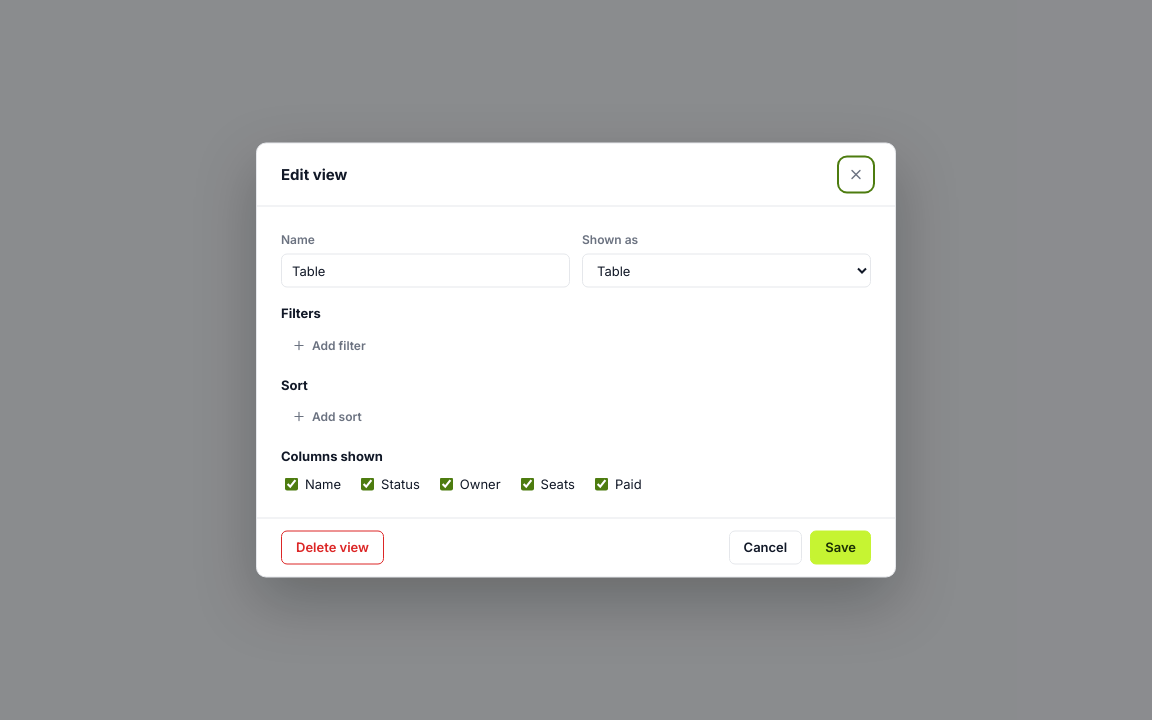
Scenario: ViewSettings › shows what the server refused
Click the button "Save" at point(841, 548), box [810,530,871,564]
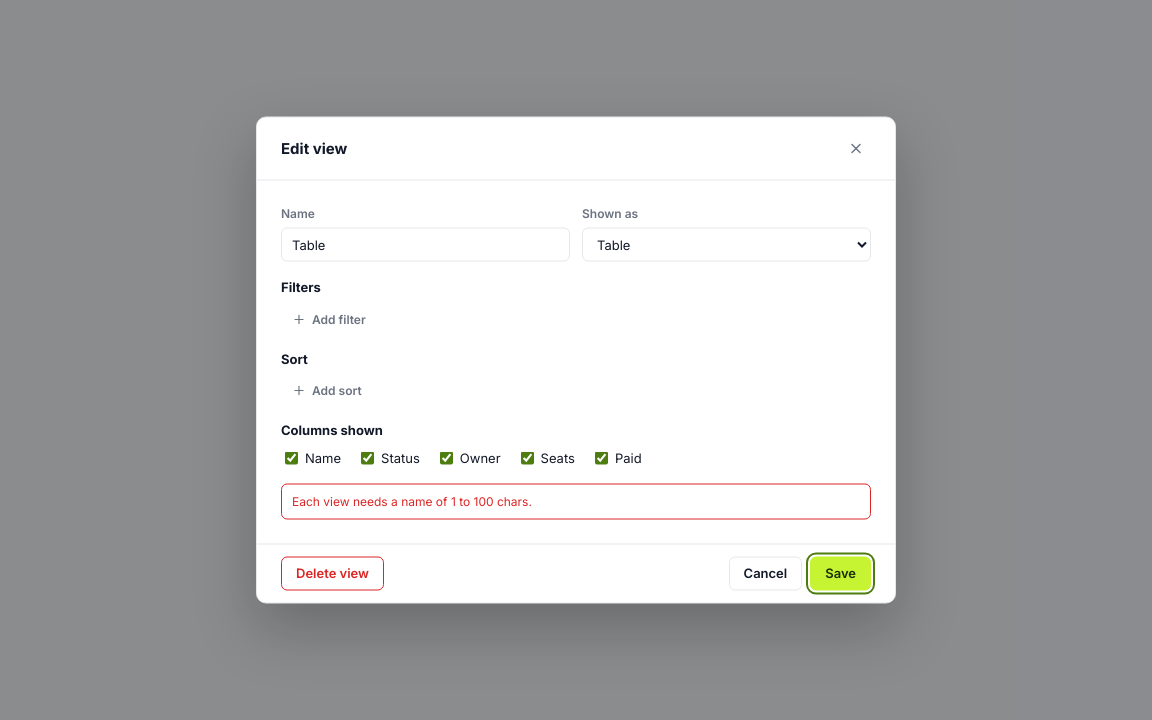
Now the text "Each view needs a name of 1 to 100 chars." is shown, box [281,484,871,520]
